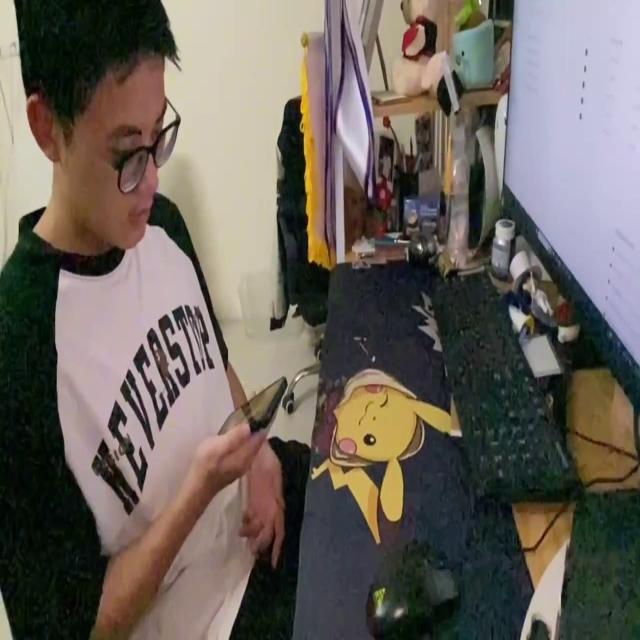laptop: (499, 2, 640, 422)
phone: (211, 369, 289, 442)
student: (2, 0, 299, 640)
